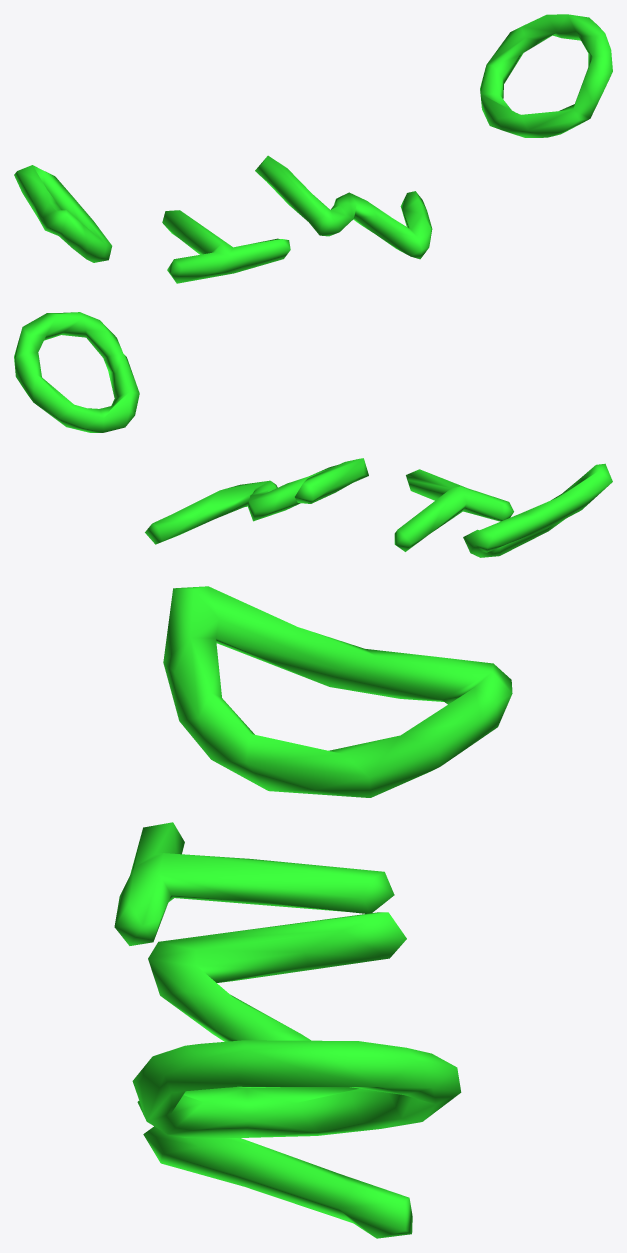
Rendered from Dtmo.obj.
3 views of the same model, one above another, from view 1: azimuth 30°, elevation 25°; view 2: azimuth 150°, elevation 25°; view 3: azimuth 270°, elevation 25° (orthographic). The views are drawn at different scales.
Parts seen in each view (by area): view 1: Dtmo; view 2: Dtmo; view 3: Dtmo.
Boxes of the visible parts, left/top/right/bottom form: Dtmo: left=14, top=14, right=612, bottom=283; Dtmo: left=14, top=312, right=612, bottom=557; Dtmo: left=114, top=586, right=512, bottom=1238.
Size of the model in its own units: 1 by 0.2824 by 0.3072.
